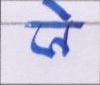o_matra: (58, 5, 72, 55)
